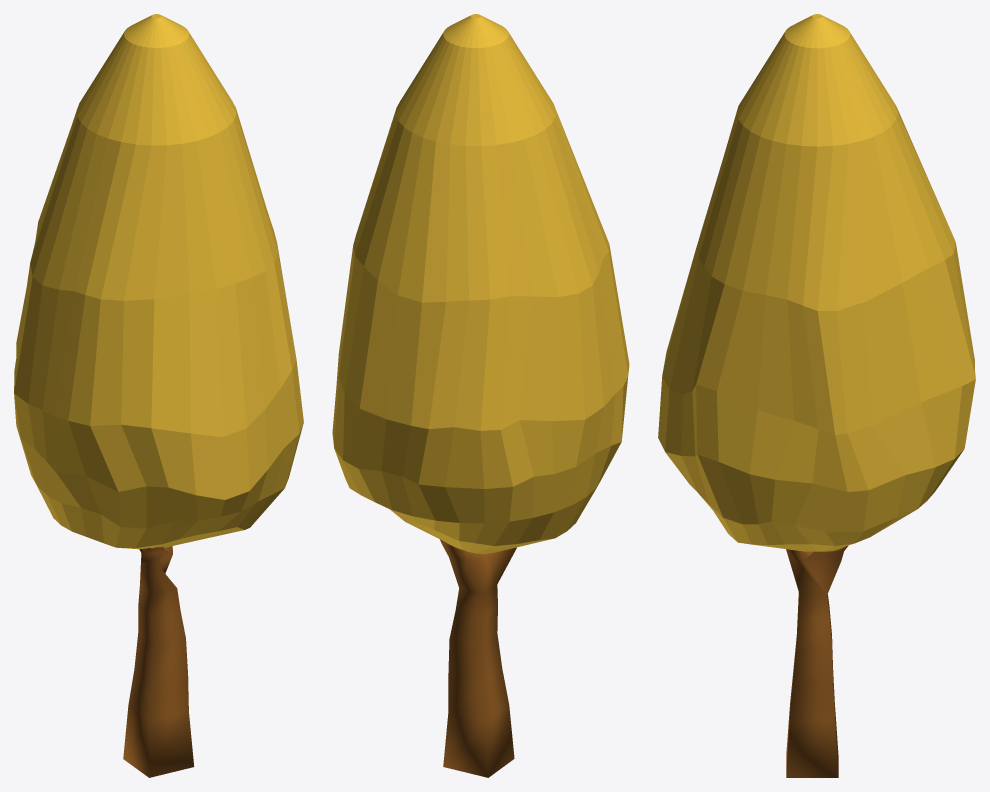
File: RW_tree _1.fbx
3 renders of one model, left to right at view 1: azimuth 30°, elevation 25°; view 2: azimuth 150°, elevation 25°; view 3: azimuth 270°, elevation 25°, orthographic.
Visible parts, largest first — view 1: Cube.105; view 2: Cube.105; view 3: Cube.105.
Boxes of the visible parts, x1,y1,x2,y2 form: Cube.105: (14, 14, 303, 777); Cube.105: (332, 14, 629, 777); Cube.105: (658, 14, 975, 777).
Bounding box in the file's own units: 6.97 × 19.6 × 7.52.
